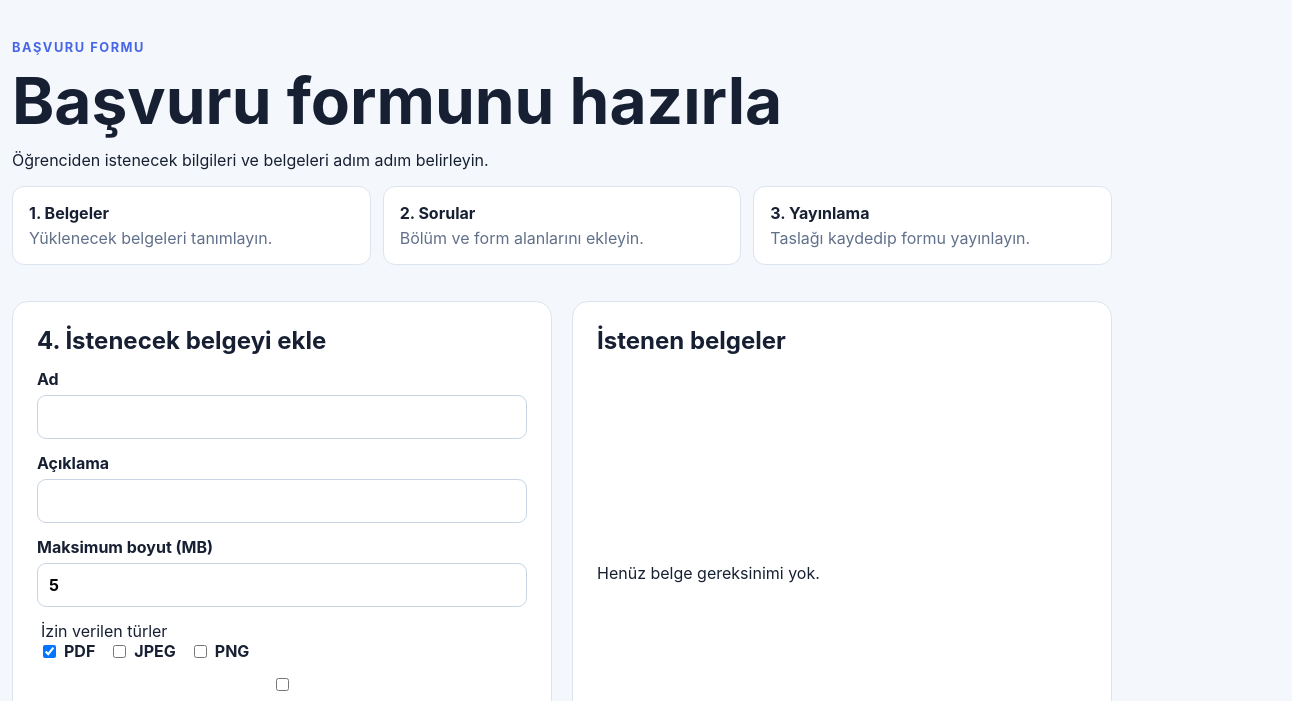
FormBuilderPage › keeps a successfully created document requirement without reloading the list
The width and height of the screenshot is (1292, 701).
Type "Öğrenci belgesi" into the field labelled "Ad".
click(282, 417); type("Öğrenci belgesi")  # box [37,395,527,439]
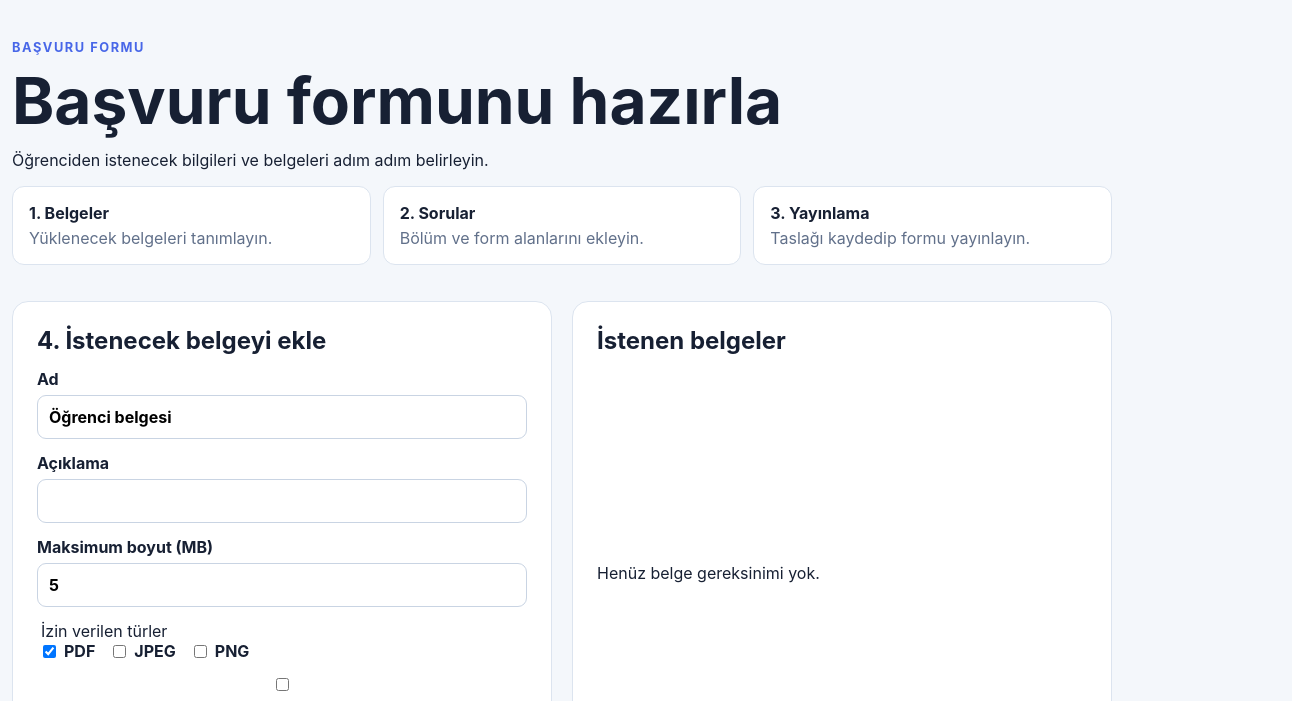
Click the checkbox labelled "Zorunlu".
click(282, 685)  # box [41,678,524,691]
(page scrolled)
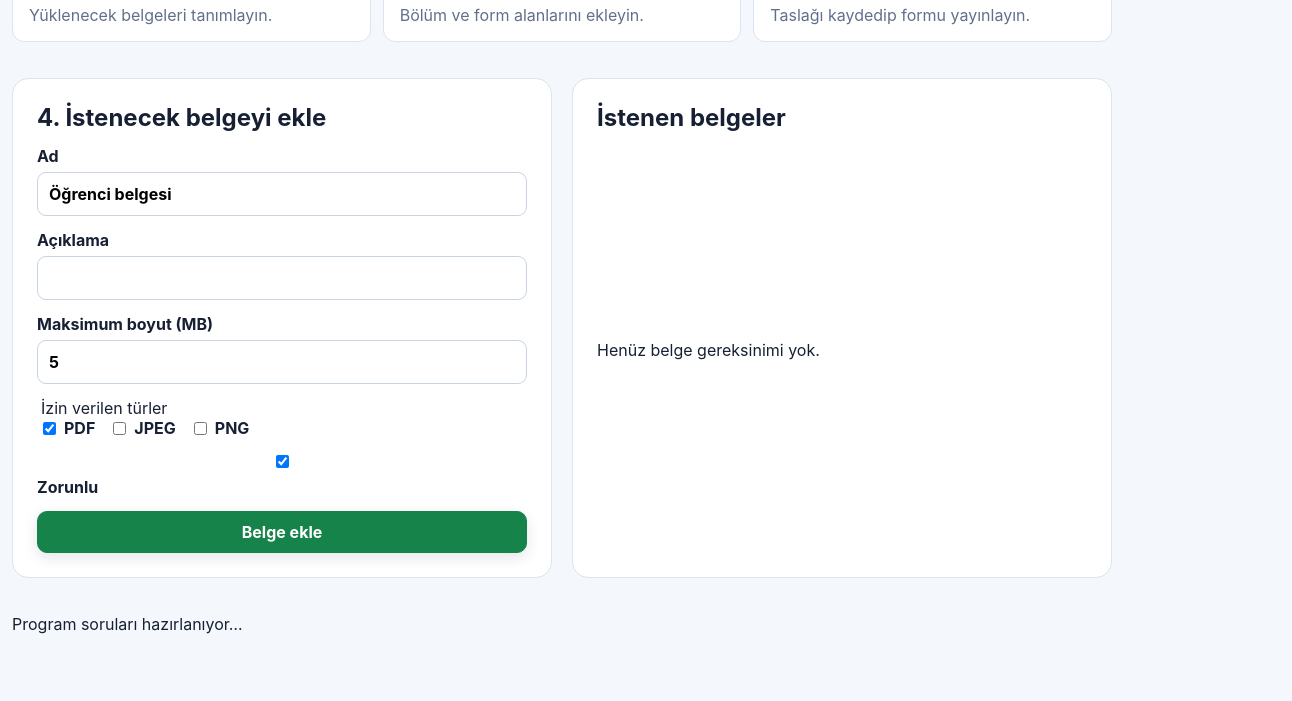
Click the button "Belge ekle".
click(282, 532)  # box [37,511,527,553]
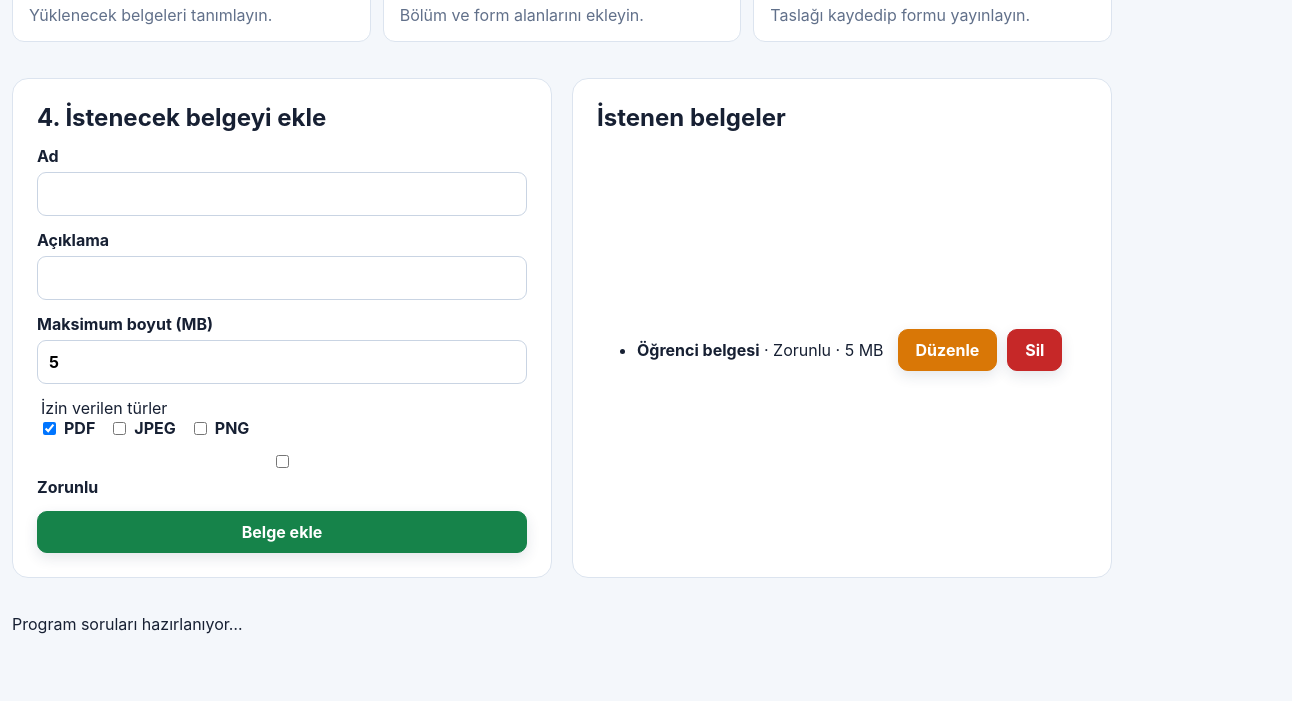
Now the text "Öğrenci belgesi" is shown, box [637,340,760,360]
